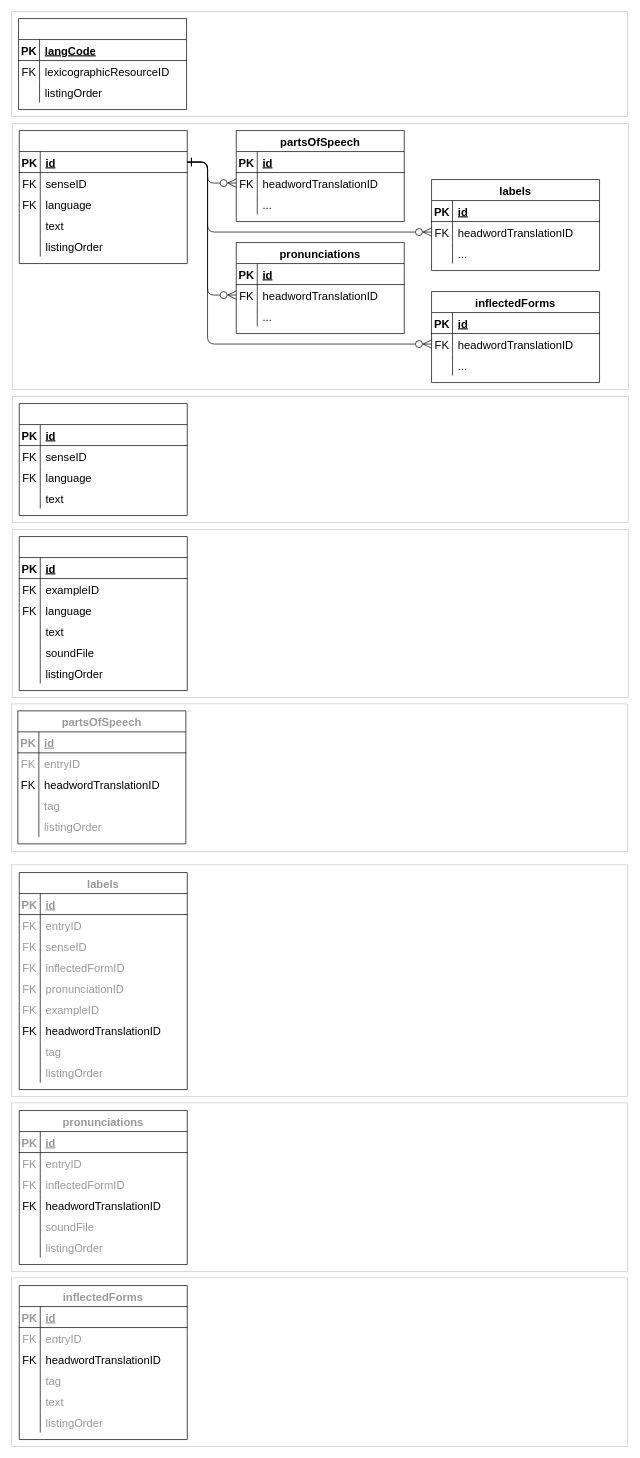
The diagram is 640 pixels wide and 1458 high, and some of its shapes have lost their labels. The shapes that lost their labels are listed below. From the top down, each one's box as (x1, y1, x2, y2) in pixels, then its label:
(18, 18, 187, 110): translationLanguages
(19, 130, 187, 264): headwordTranslations
(19, 403, 187, 516): headwordExplanations
(19, 536, 187, 691): exampleTranslations
